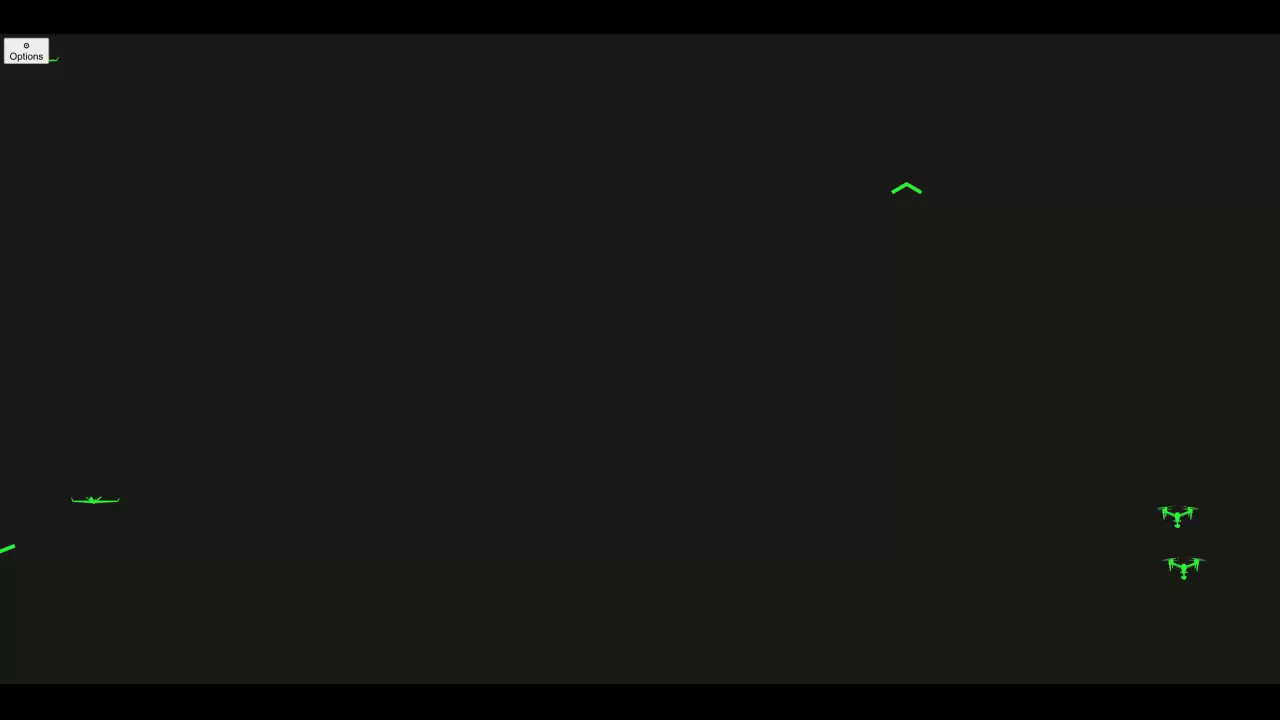Bird: (880, 162, 935, 199)
Drone: (58, 480, 128, 523)
Quadcopter: (1156, 547, 1209, 590), (1156, 489, 1198, 539)
